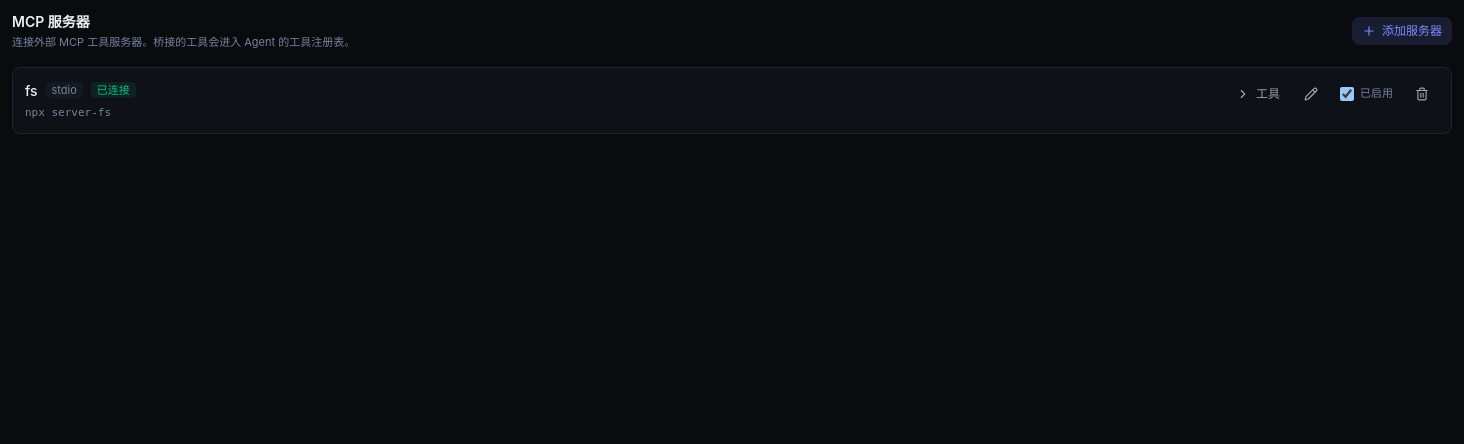
Test case: MCP tool tester (P1-5) › opens an inline tester with the schema hint when a tool's test button is clicked
The width and height of the screenshot is (1464, 444).
Expected: the list item with test id "settings-mcp-server-srv_1" is shown, [12,66,1452,134]
Step 1. Click the button with test id "settings-mcp-expand-srv_1" → (1258, 94), box [1226,80,1290,108]
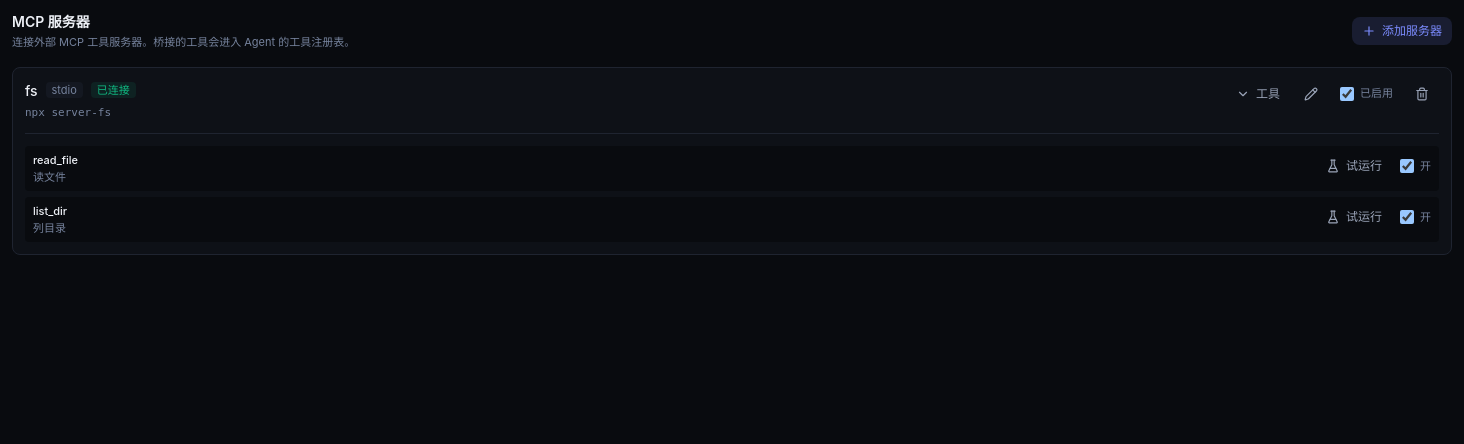
Expected: the list with test id "settings-mcp-tools-srv_1" is shown, [25,146,1439,242]
Step 2. Click the button with test id "settings-mcp-test-srv_1-read_file" → (1354, 166), box [1316,152,1392,180]
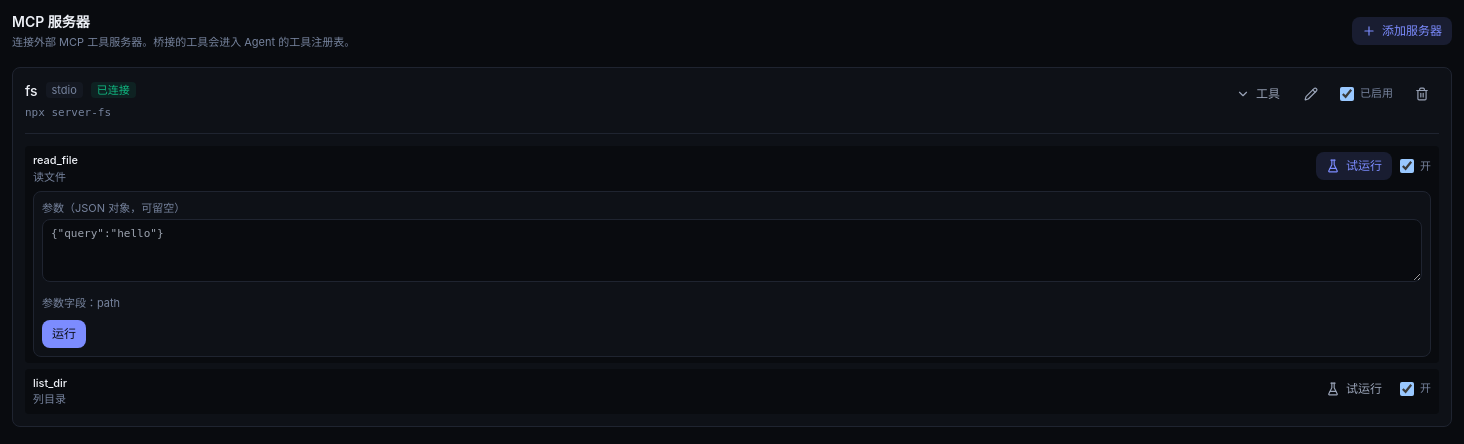
Expected: the element with test id "settings-mcp-tester-srv_1-read_file" is shown, [33,191,1431,356]
Expected: the text box with test id "settings-mcp-tester-args-srv_1-read_file" is shown, [42,218,1422,282]
Expected: the button with test id "settings-mcp-tester-run-srv_1-read_file" is shown, [42,320,86,348]
